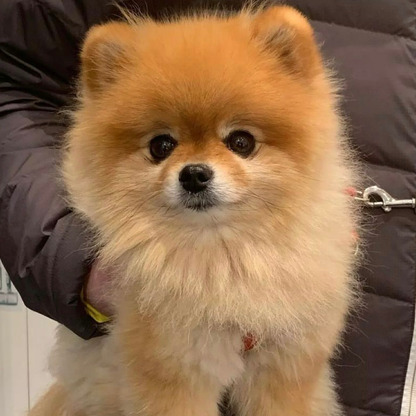Pomeranian: (69, 15, 373, 391)
